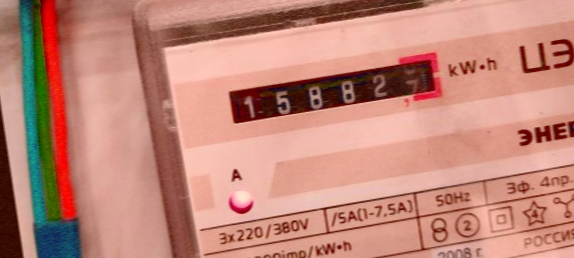1: (242, 93, 260, 123)
2: (372, 72, 392, 102)
5: (274, 89, 296, 118)
7: (405, 78, 423, 97)
8: (307, 84, 327, 114), (340, 78, 359, 108)
screen: (214, 44, 456, 140)
